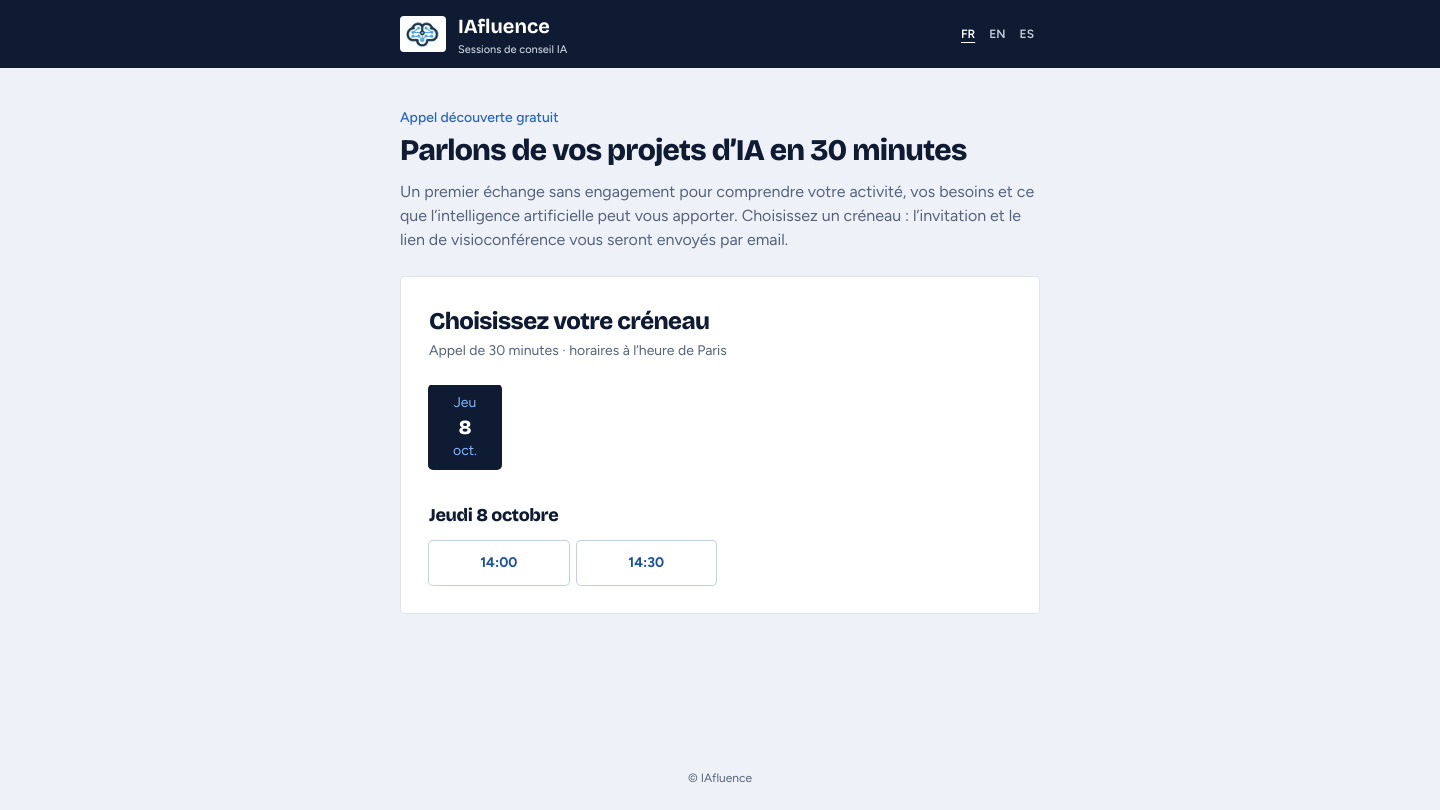
Test: Discovery › goes back to the slots when the time was just taken
Click the button "14:30" at point(646, 563), box [576,541,716,585]
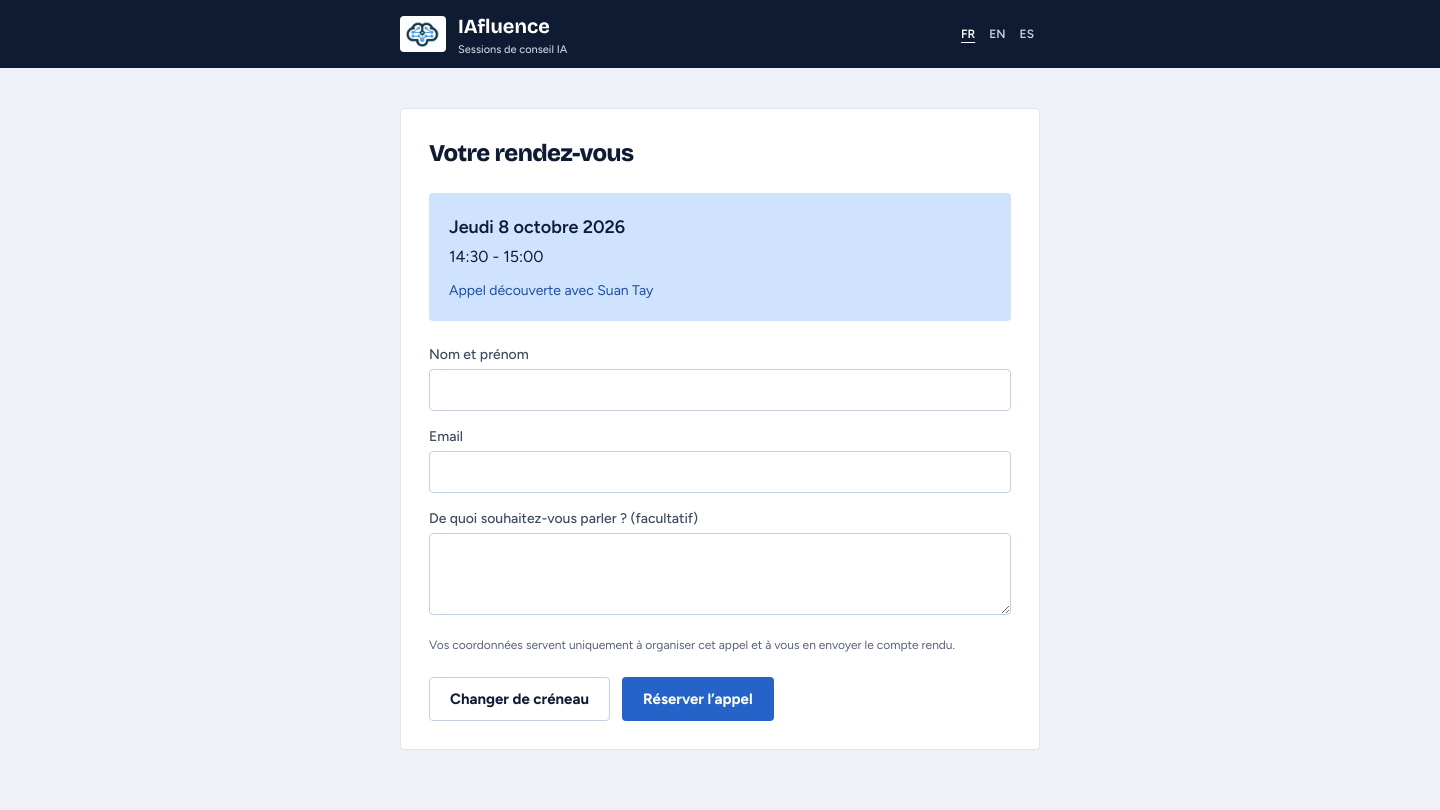
Type "Paul Prospect" into the field labelled "Nom et prénom" at point(720, 390), box [429,369,1011,411]
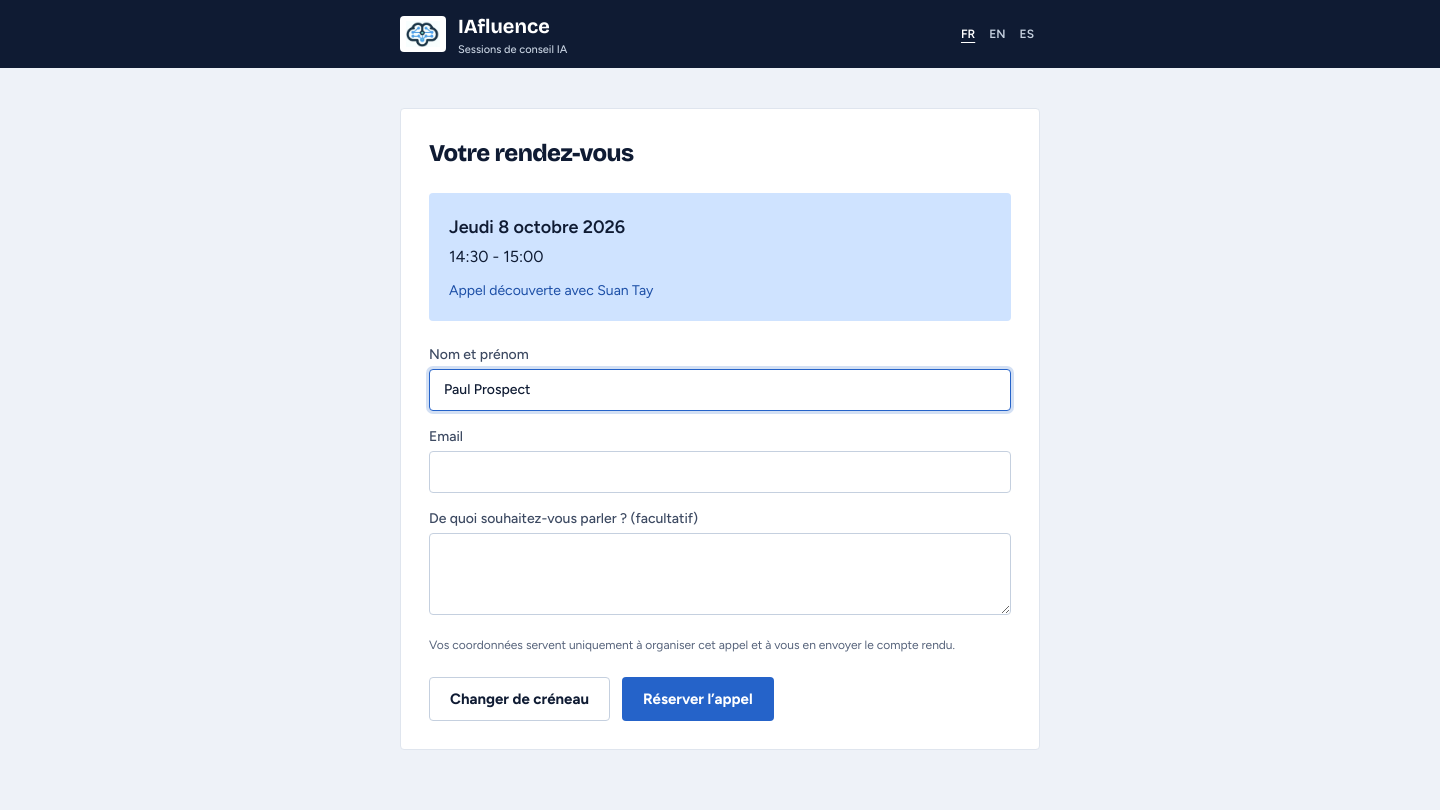
Type "paul@example.com" into the field labelled "Email" at point(720, 472), box [429,451,1011,493]
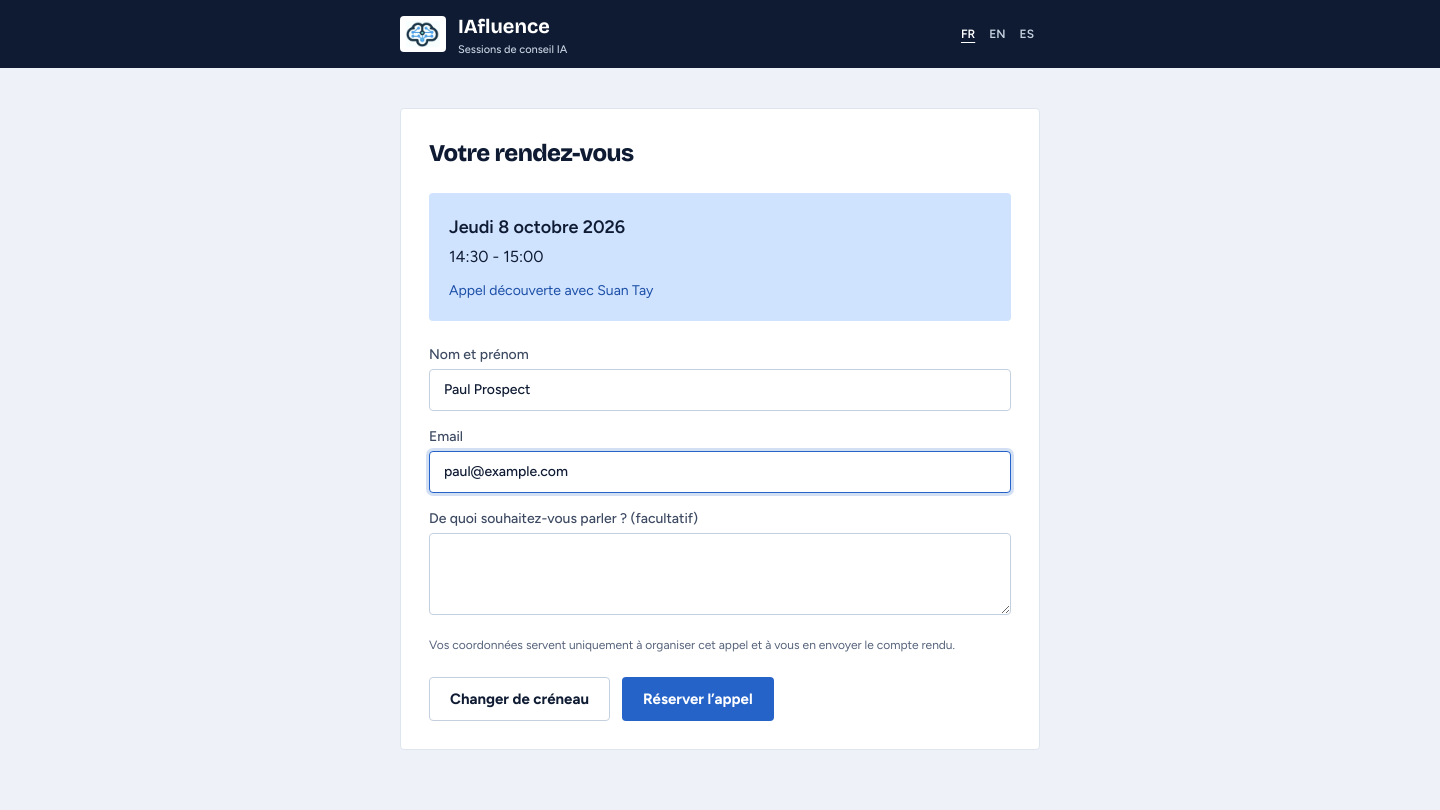
Click the button "Réserver l’appel" at point(698, 699), box [622,677,774,721]
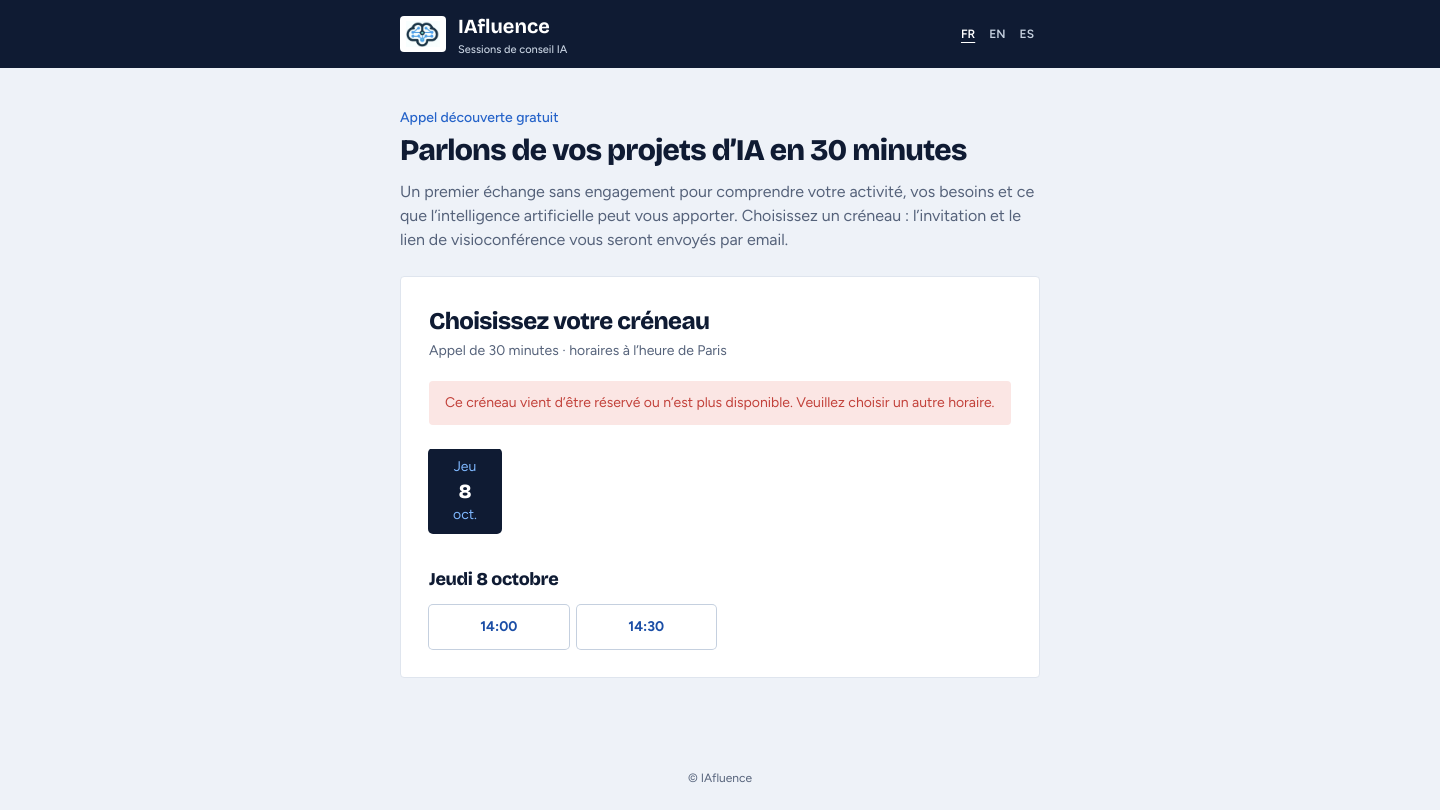
Expected: the text "Ce créneau vient d’être réservé" is shown, [445,394,994,411]
